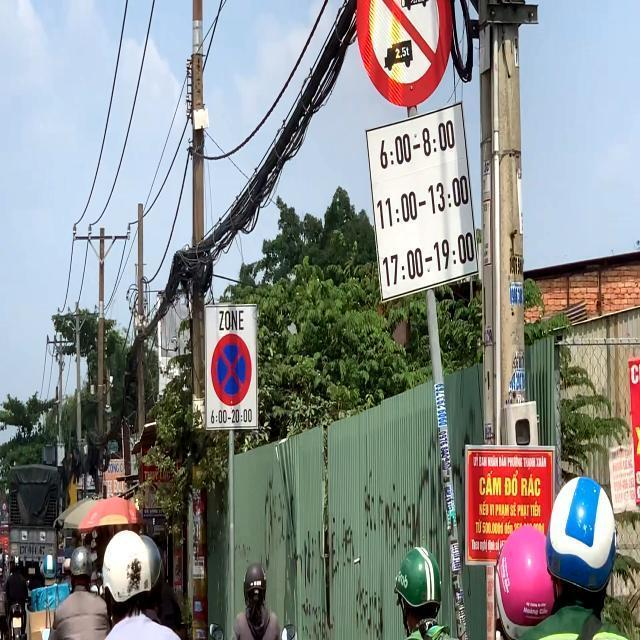130-cam-dung-va-do-xe: (213, 334, 253, 404)
